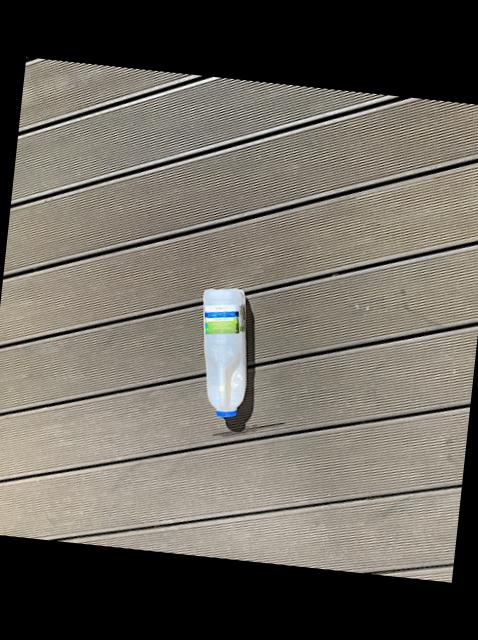plastic: (201, 288, 244, 415)
